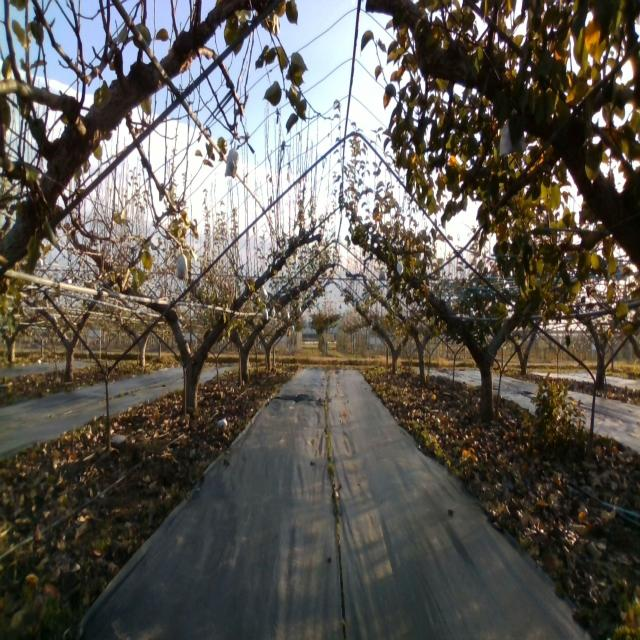pearbags: (223, 142, 240, 180), (174, 248, 189, 281)
